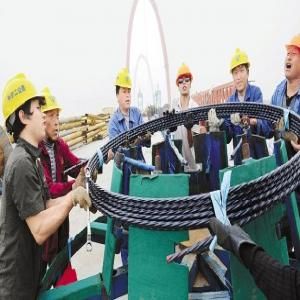yellow: (4, 76, 46, 151), (40, 88, 61, 143), (232, 50, 250, 94), (115, 69, 132, 111), (285, 32, 300, 79), (176, 64, 194, 100)
